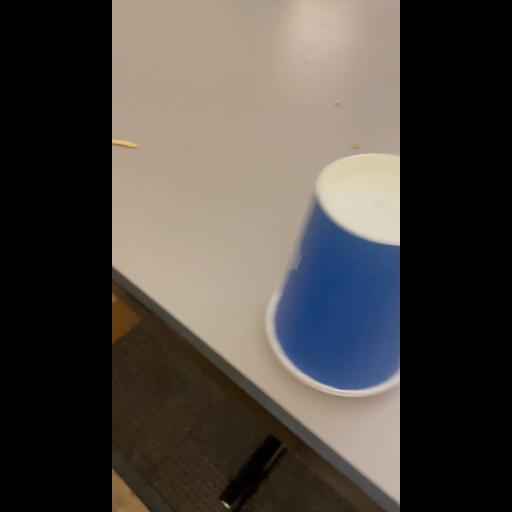lp_paper_cup: (264, 150, 400, 396)
